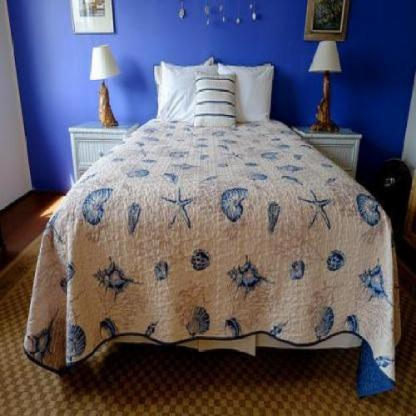Bed: (17, 49, 404, 416)
